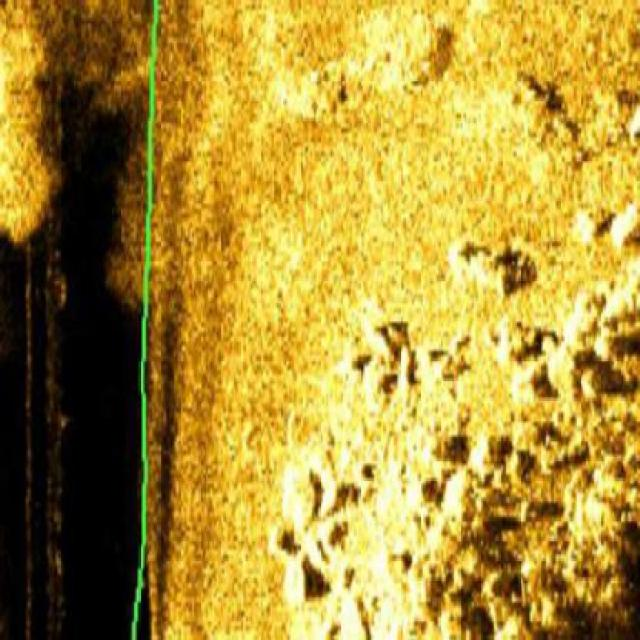bedrock group: (272, 202, 639, 640)
